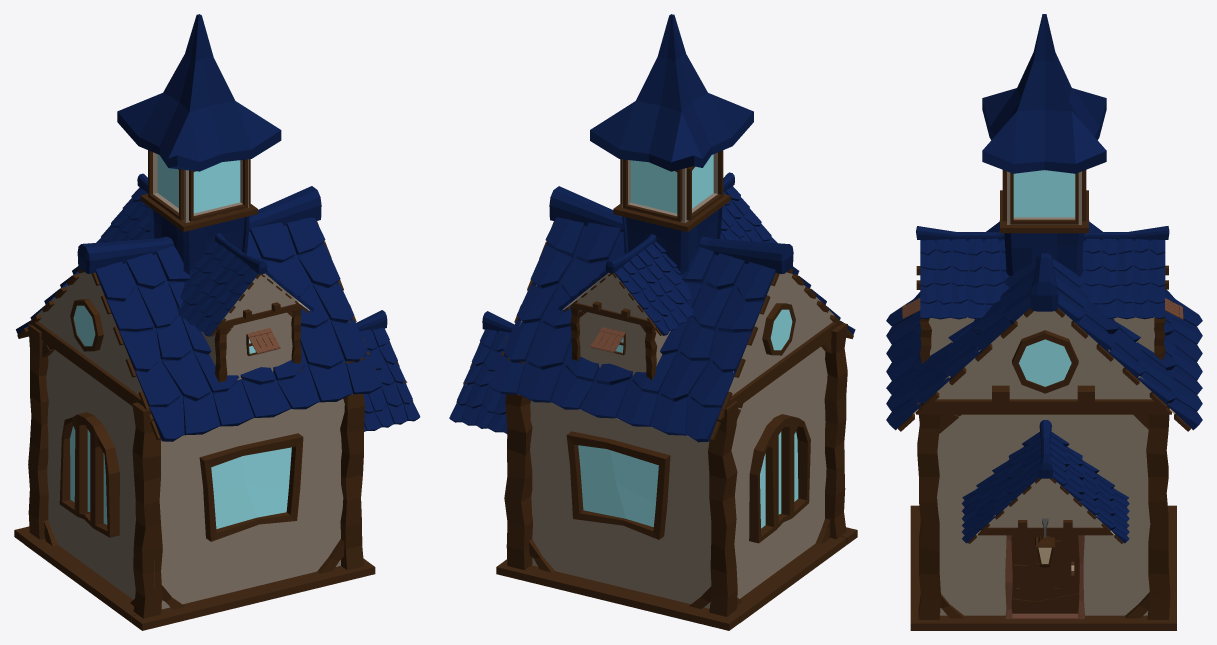
The model's file is casaPantano.fbx.
3 views of the same model, side by side, from view 1: azimuth 30°, elevation 25°; view 2: azimuth 150°, elevation 25°; view 3: azimuth 270°, elevation 25° (orthographic). The views are drawn at different scales.
Visible parts, largest first — view 1: Plane.599, Plane.587, Cube.2293, Plane.594, Cube.2220, Cube.2247, Cube.2225, Plane.598, Cube.2261, Plane.588, Cube.2197, Cube.2256 (+20 smaller); view 2: Plane.599, Plane.586, Cube.2293, Plane.594, Cube.2247, Cube.2217, Cube.2218, Cube.2204, Plane.591, Cube.2220, Cube.2254, Plane.588 (+19 smaller); view 3: Plane.581, Plane.599, Cube.2293, Plane.601, Plane.583, Plane.598, Plane.591, Cube.2203, Cube.2197, Cube.2204, Cube.2258, Cube.2253 (+21 smaller).
Boxes of the visible parts, bbox=[...] form: Plane.599: bbox=[16, 217, 382, 441]; Plane.587: bbox=[159, 399, 344, 609]; Cube.2293: bbox=[117, 14, 281, 171]; Plane.594: bbox=[46, 350, 154, 599]; Cube.2220: bbox=[132, 402, 162, 618]; Cube.2247: bbox=[59, 412, 119, 537]; Cube.2225: bbox=[211, 447, 291, 528]; Plane.598: bbox=[176, 241, 314, 336]; Cube.2261: bbox=[131, 559, 375, 630]; Plane.588: bbox=[37, 272, 142, 394]; Cube.2197: bbox=[340, 357, 365, 570]; Cube.2256: bbox=[77, 186, 321, 273]; Plane.599: bbox=[488, 217, 855, 442]; Plane.586: bbox=[530, 400, 711, 608]; Cube.2293: bbox=[590, 14, 753, 171]; Plane.594: bbox=[731, 347, 827, 598]; Cube.2247: bbox=[749, 414, 810, 543]; Cube.2217: bbox=[708, 401, 737, 616]; Cube.2218: bbox=[578, 445, 658, 526]; Cube.2204: bbox=[504, 358, 532, 569]; Plane.591: bbox=[558, 241, 694, 335]; Cube.2220: bbox=[824, 322, 847, 539]; Cube.2254: bbox=[496, 560, 739, 630]; Plane.588: bbox=[728, 272, 834, 395]; Plane.581: bbox=[937, 414, 1150, 615]; Plane.599: bbox=[886, 220, 1202, 430]; Cube.2293: bbox=[982, 14, 1106, 173]; Plane.601: bbox=[937, 311, 1151, 399]; Plane.583: bbox=[962, 431, 1129, 543]; Plane.598: bbox=[920, 238, 1009, 319]; Plane.591: bbox=[1079, 238, 1165, 319]; Cube.2203: bbox=[1012, 535, 1079, 613]; Cube.2197: bbox=[917, 402, 940, 619]; Cube.2204: bbox=[1146, 403, 1170, 619]; Cube.2258: bbox=[916, 399, 1171, 414]; Cube.2253: bbox=[928, 615, 1158, 630].
Size of the model in its own units: 2738 by 4340 by 2227.
